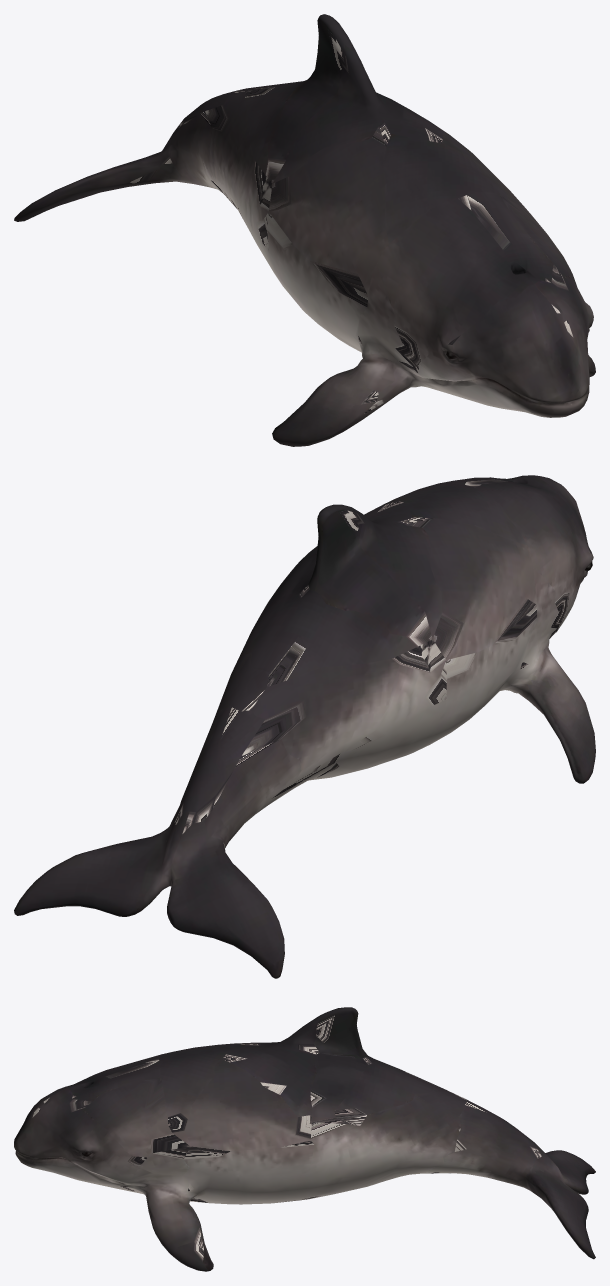
File: bruinvis.glb
3 views of the same model, one above another, from view 1: azimuth 30°, elevation 25°; view 2: azimuth 150°, elevation 25°; view 3: azimuth 270°, elevation 25° (orthographic). The views are drawn at different scales.
Visible parts, largest first — view 1: tripo_node_d1a34acd-d968-499a-b13e-42889dbf7daf; view 2: tripo_node_d1a34acd-d968-499a-b13e-42889dbf7daf; view 3: tripo_node_d1a34acd-d968-499a-b13e-42889dbf7daf.
Part boxes in pixels (x1,y1,x2,y2): tripo_node_d1a34acd-d968-499a-b13e-42889dbf7daf: [14, 14, 595, 446]; tripo_node_d1a34acd-d968-499a-b13e-42889dbf7daf: [14, 475, 595, 978]; tripo_node_d1a34acd-d968-499a-b13e-42889dbf7daf: [14, 1007, 595, 1271].
Size of the model in its own units: 2.62 by 2.5 by 6.19.
Materials: 1 (1 with a texture image).
